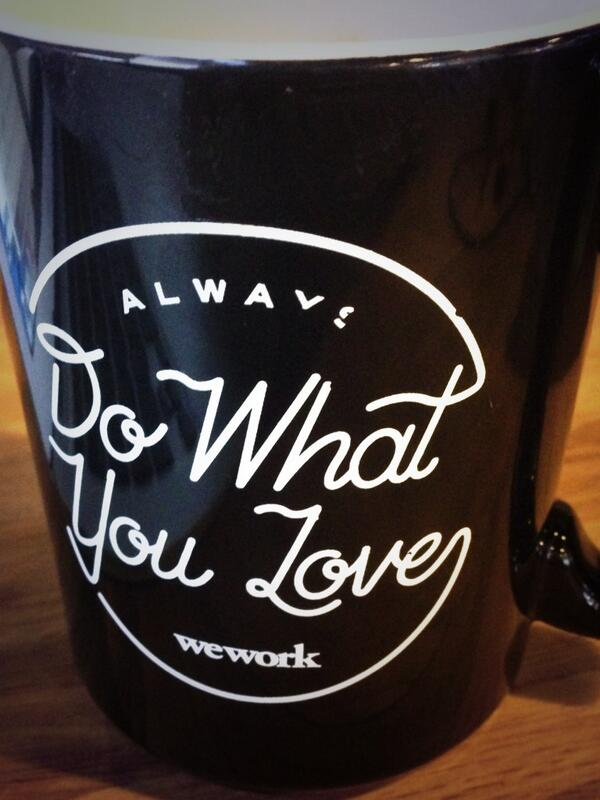wework: (169, 627, 325, 674)
